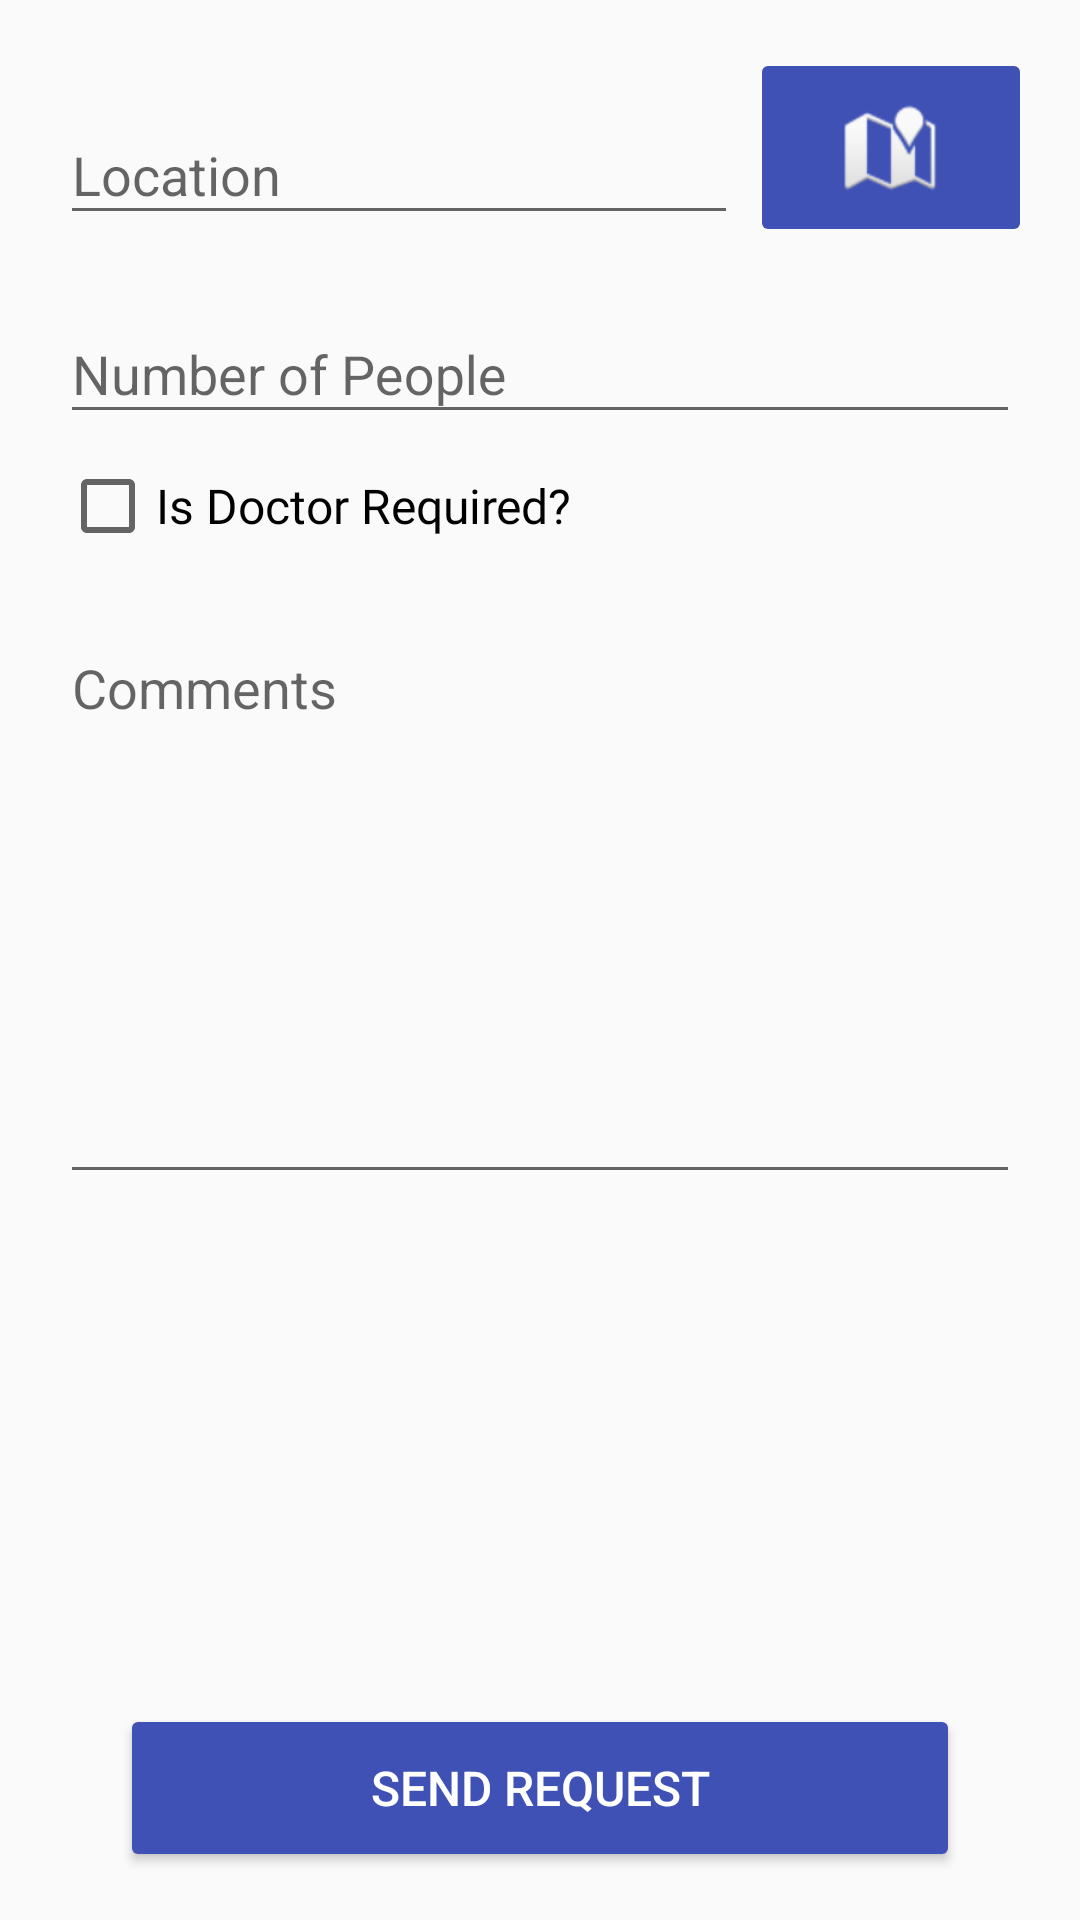

Named icons in this screenshot (1080*1920) and their centers, (x=x, y=y):
map: (x=891, y=147)
